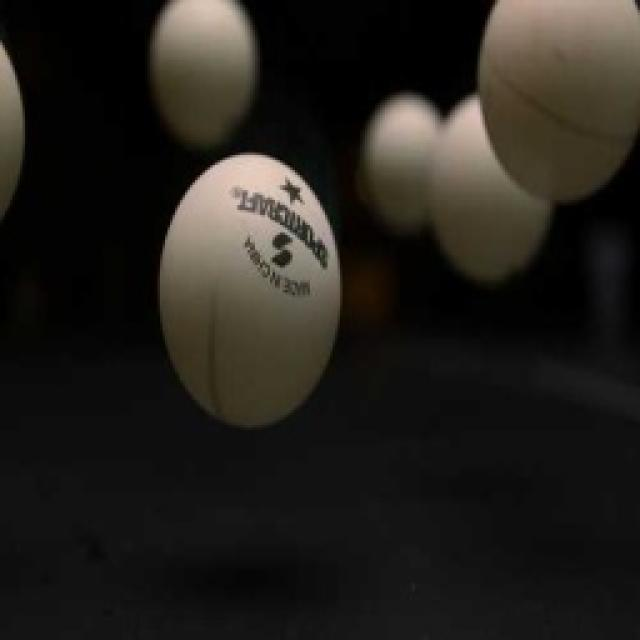ping-pong-ball: (160, 152, 333, 422), (476, 0, 640, 201), (152, 0, 258, 143)
